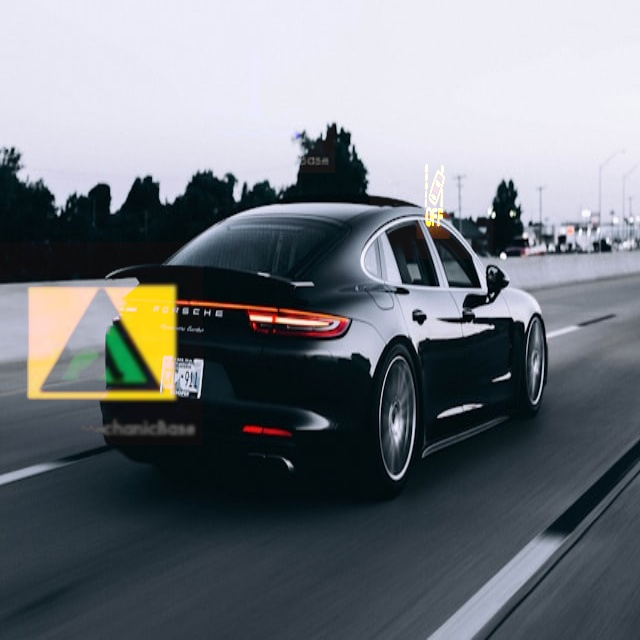symbol: (0, 242, 203, 445), (174, 12, 335, 173), (370, 136, 493, 259)
